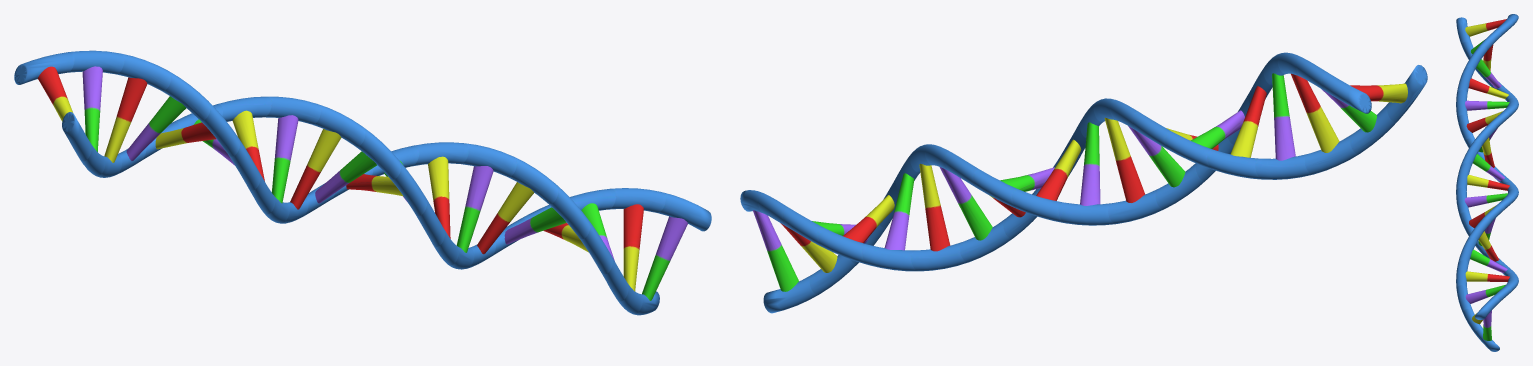
File: dnaA.glb
The picture shows the model from 3 angles, left to right: view 1: azimuth 30°, elevation 25°; view 2: azimuth 150°, elevation 25°; view 3: azimuth 270°, elevation 25°; orthographic projection. The views are drawn at different scales.
Parts seen in each view (by area): view 1: DNA_Material_0; view 2: DNA_Material_0; view 3: DNA_Material_0.
Part boxes in pixels (bbox=[...]): DNA_Material_0: bbox=[14, 50, 711, 315]; DNA_Material_0: bbox=[740, 52, 1427, 313]; DNA_Material_0: bbox=[1456, 14, 1518, 351].
Bounding box in the file's own units: 3772 × 2103 × 619.
Materials: 1 (1 with a texture image).
